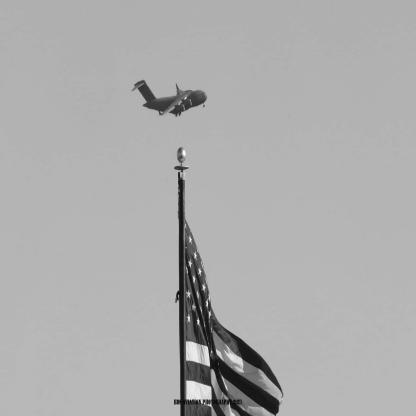C17: (131, 80, 208, 118)
